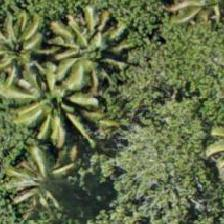coconut_tree: (38, 8, 128, 98), (0, 54, 81, 144), (0, 140, 83, 223), (0, 0, 52, 89)
